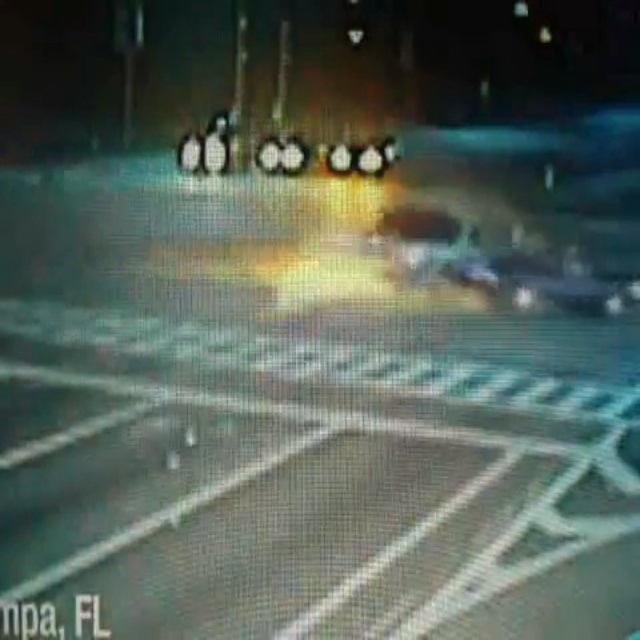acc: (341, 187, 637, 341)
